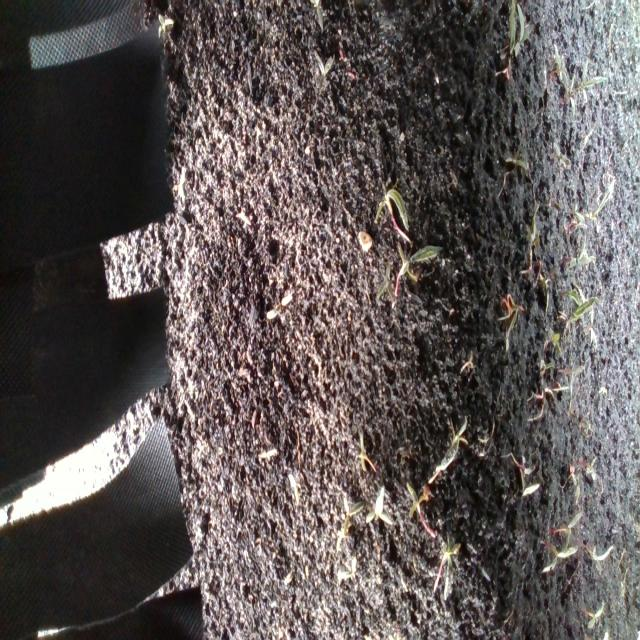weed: (352, 426, 382, 476)
